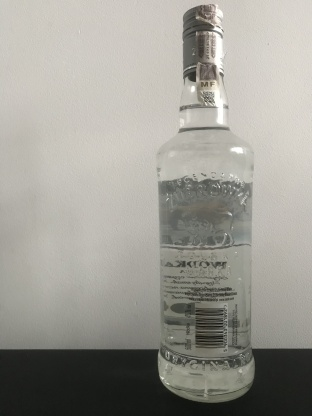nakretka: (180, 1, 226, 78)
